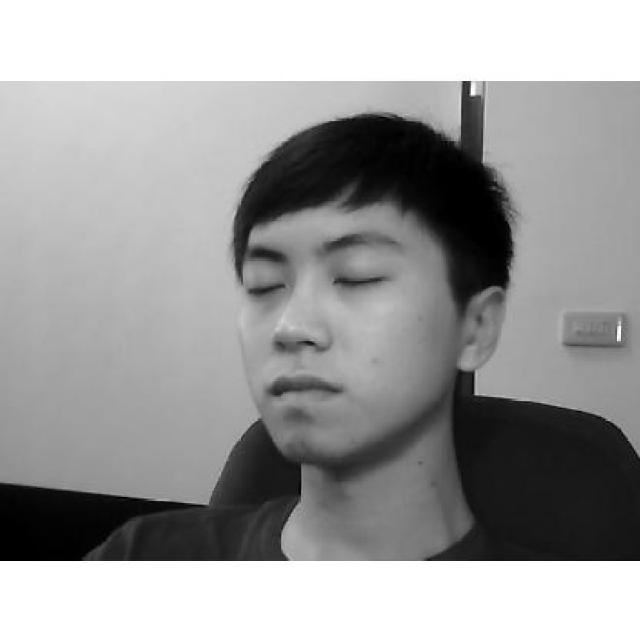inattentif: (230, 110, 504, 462)
